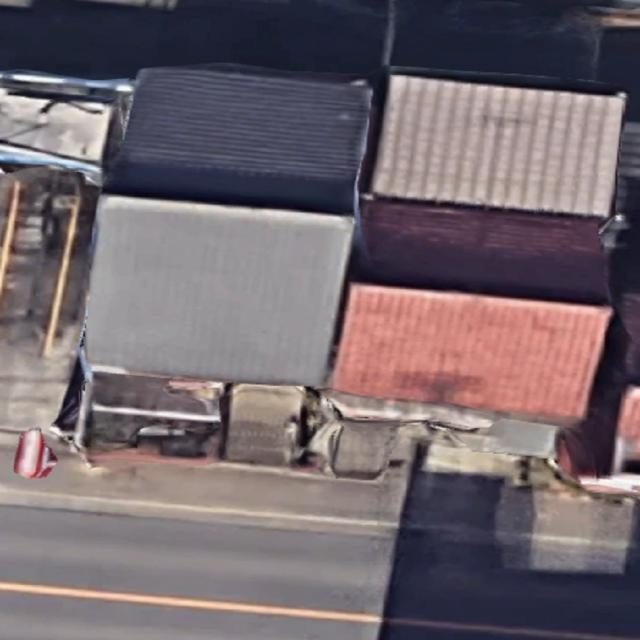Batiment: (332, 71, 626, 423), (85, 65, 371, 385)
